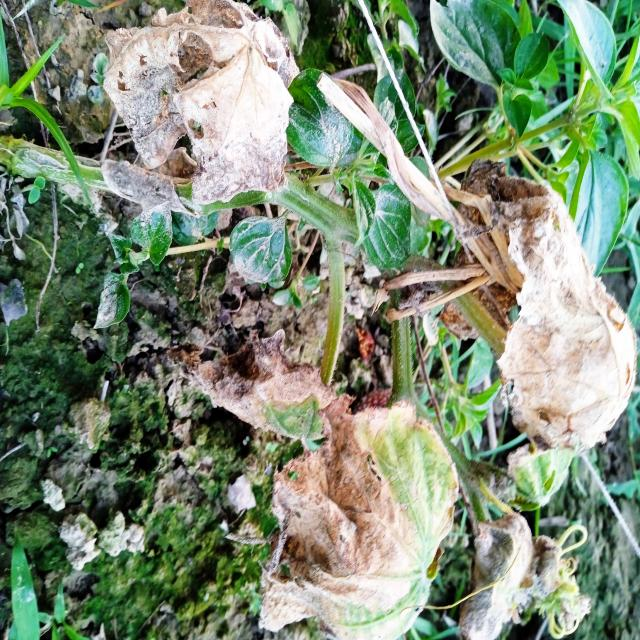Bacterial-Wilt: (464, 153, 640, 453), (100, 0, 302, 208)
